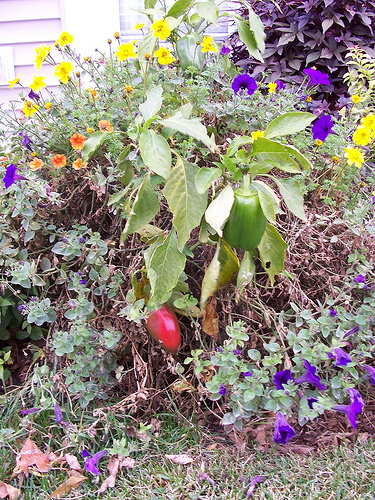capsicum: (147, 305, 183, 346)
